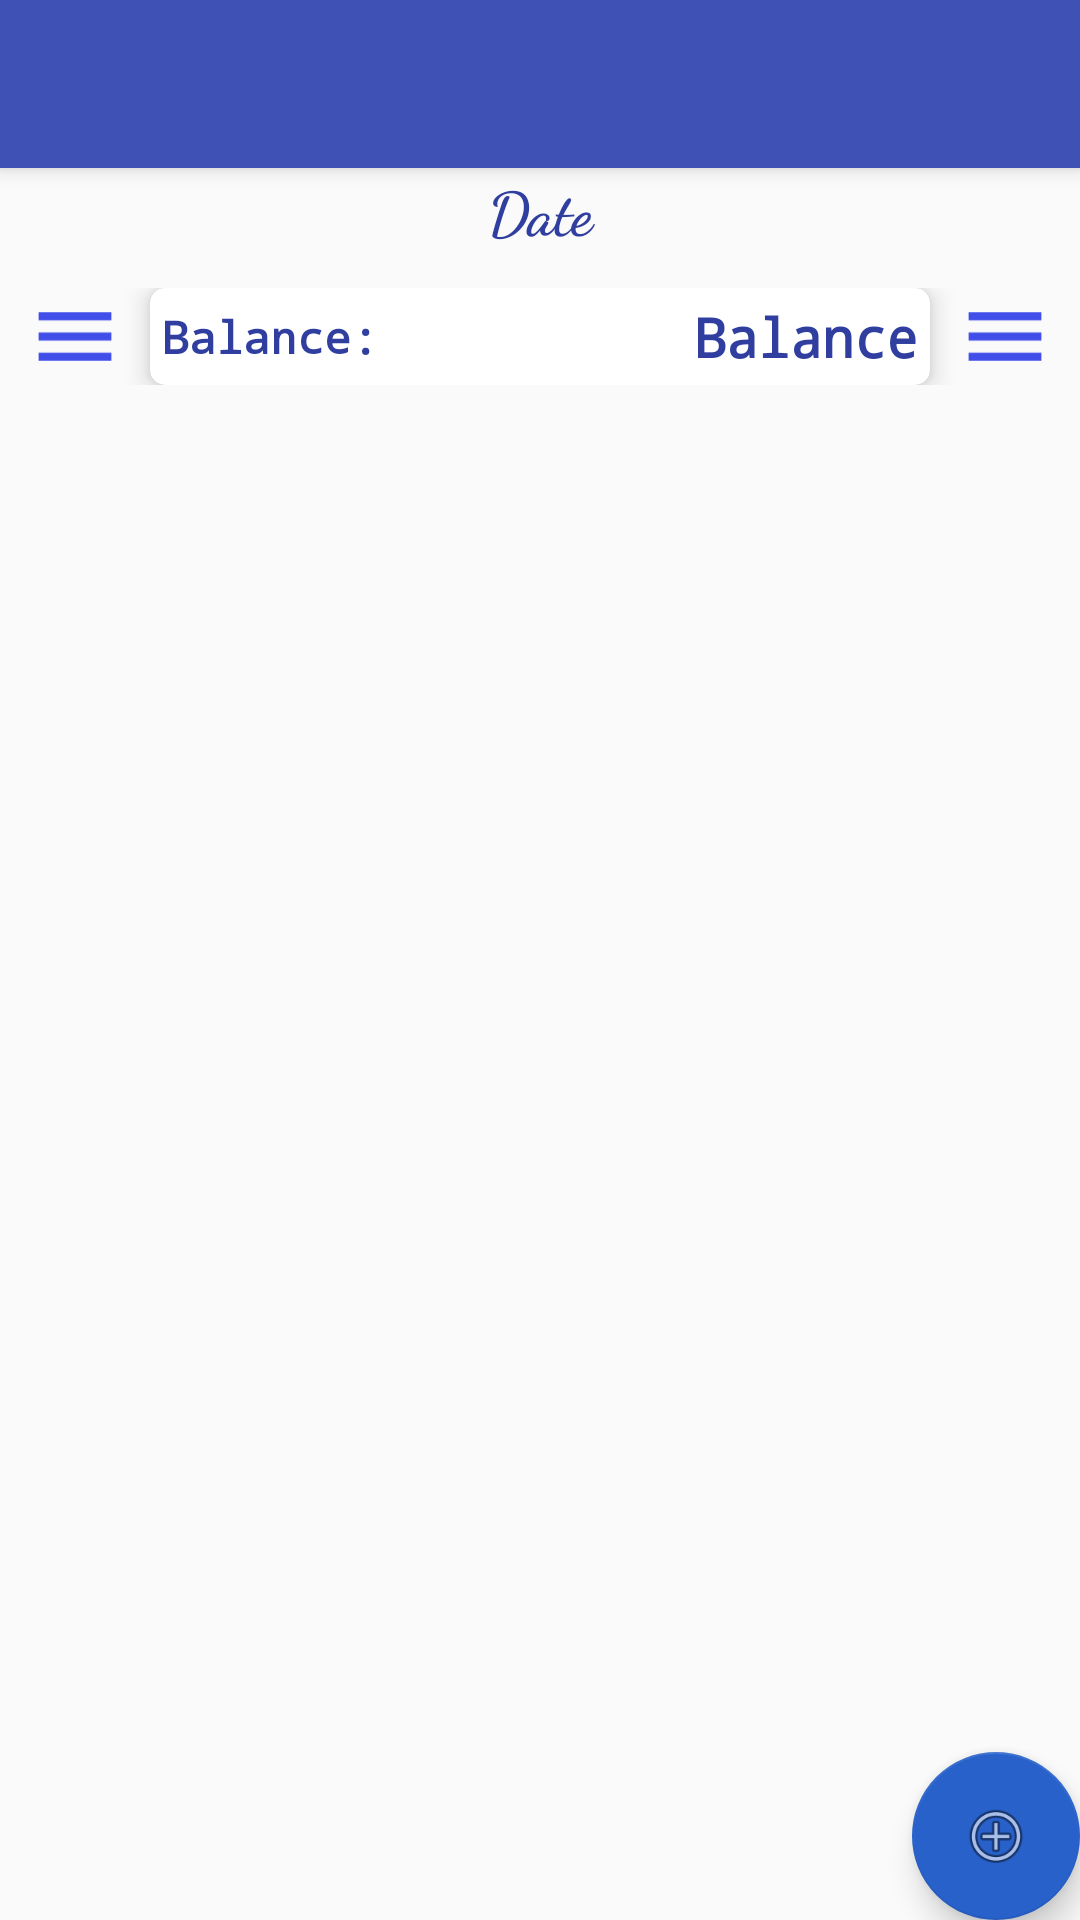

Where to tap for icons on this 1080×1920 app screen, as point (x, y):
add: point (996, 1836)
menu: point (75, 336), point (1005, 336)
